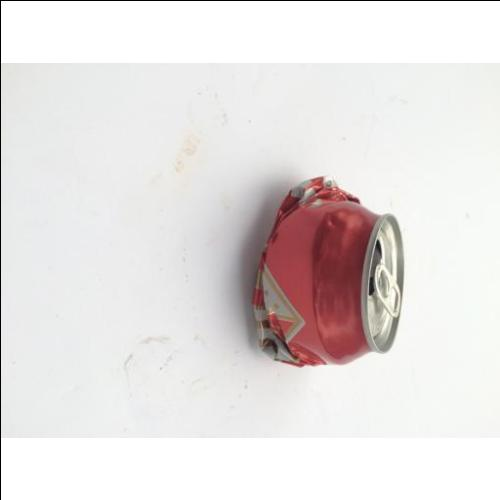metal: (259, 177, 405, 367)
